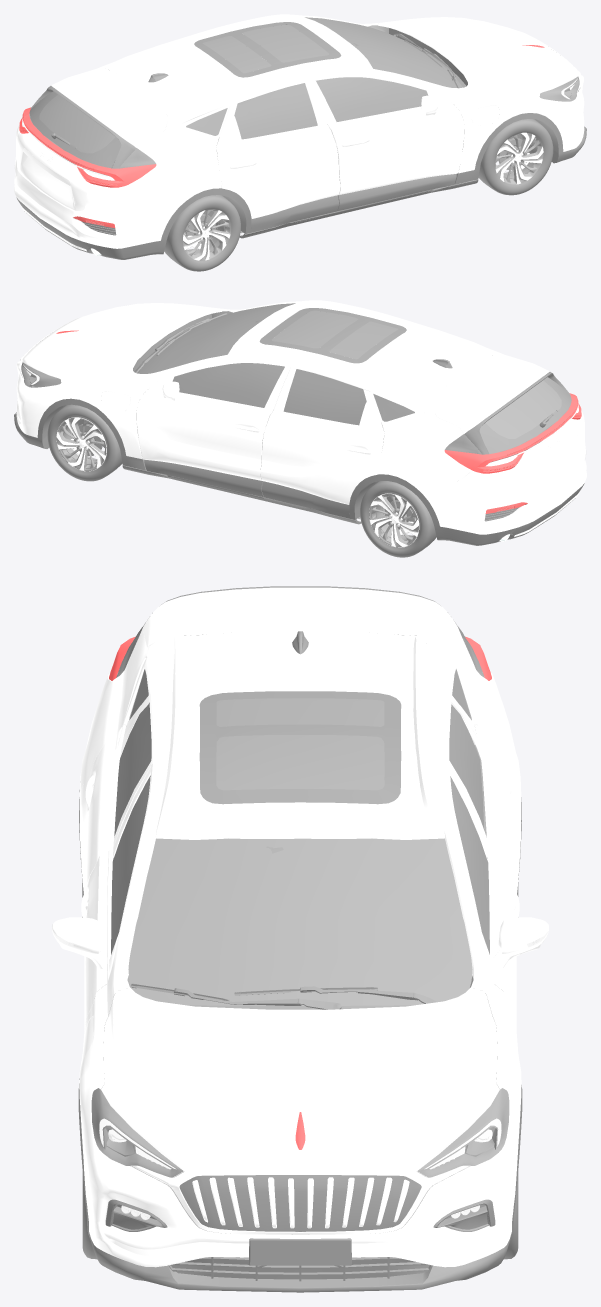
File: Hongqi_white.glb
3 renders of one model, top to bottom at view 1: azimuth 30°, elevation 25°; view 2: azimuth 150°, elevation 25°; view 3: azimuth 270°, elevation 25°, orthographic. The views are drawn at different scales.
Parts seen in each view (by area): view 1: Hongqi_1, Hongqi_2, Hongqi_6, Object002, Object007, Hongqi_wheelFR, Hongqi_wheelBR, Hongqi_brakeLightsOFF, Hongqi_11; view 2: Hongqi_1, Hongqi_2, Hongqi_6, Object006, Object008, Hongqi_wheelBL, Hongqi_wheelFL, Hongqi_brakeLightsOFF, Hongqi_11; view 3: Hongqi_1, Hongqi_2, Hongqi_6, Hongqi_11, Hongqi_7.
Part boxes in pixels (x1,y1,x2,y2): Hongqi_1: (14,14,584,248); Hongqi_2: (39,17,462,153); Hongqi_6: (16,22,586,259); Object002: (164,195,240,271); Object007: (478,119,553,195); Hongqi_wheelFR: (495,132,543,184); Hongqi_wheelBR: (183,209,230,260); Hongqi_brakeLightsOFF: (19,107,156,187); Hongqi_11: (21,40,583,251); Hongqi_1: (16,300,586,534); Hongqi_2: (138,303,561,438); Hongqi_6: (14,308,584,545); Object006: (360,481,436,557); Object008: (47,404,122,481); Hongqi_wheelBL: (369,493,419,547); Hongqi_wheelFL: (56,417,106,471); Hongqi_brakeLightsOFF: (444,393,581,473); Hongqi_11: (16,323,579,536); Hongqi_1: (52,587,548,1267); Hongqi_2: (111,669,489,1005); Hongqi_6: (78,586,522,1292); Hongqi_11: (53,931,547,1234); Hongqi_7: (99,1118,501,1219).
Bounding box in the file's own units: 5.09 × 1.49 × 2.1.
